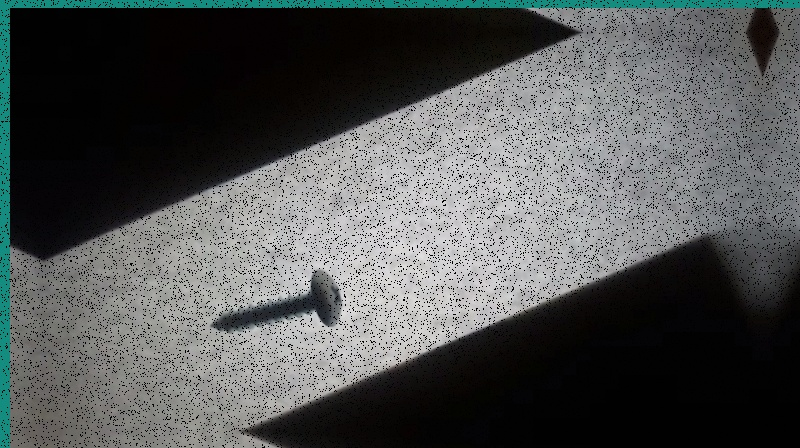S003: (205, 264, 345, 336)
